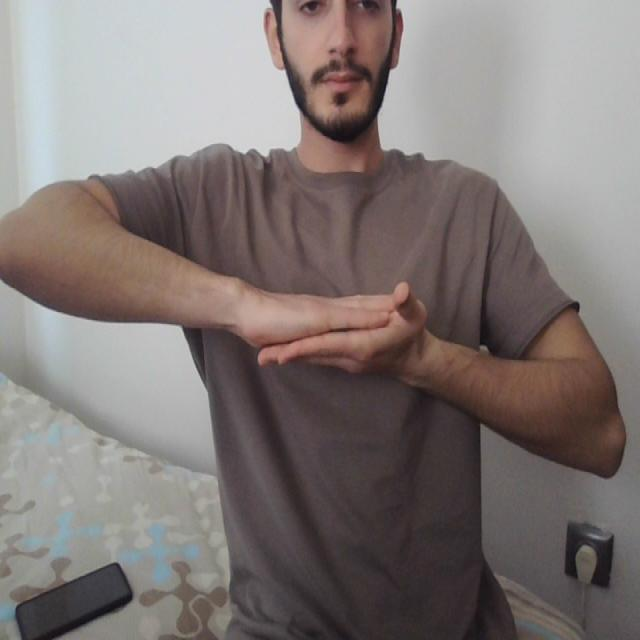Arkadas: (143, 260, 534, 388)
